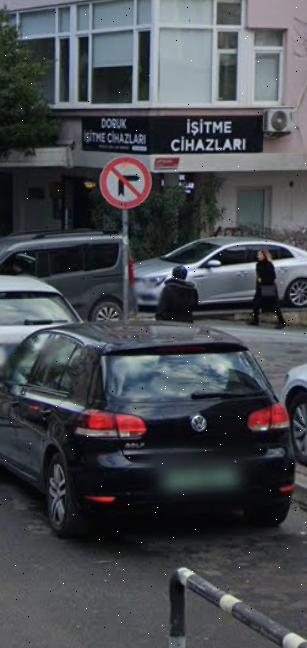rightturnsareforbidden: (99, 162, 152, 211)
